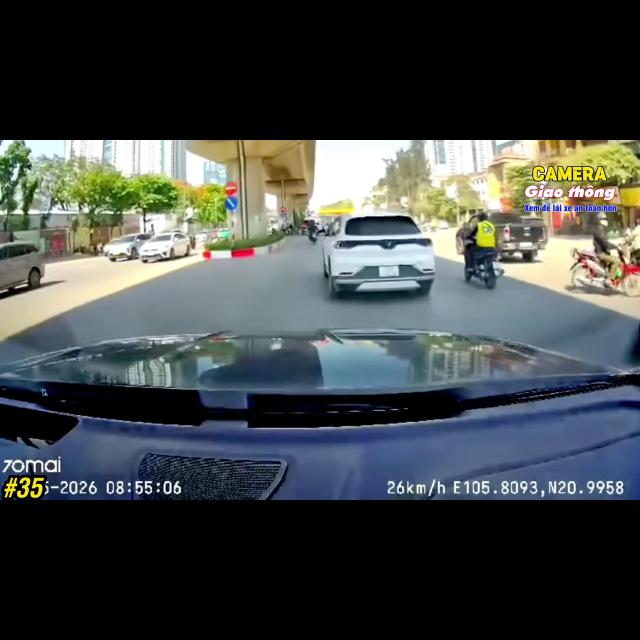car: (0, 329, 639, 499), (323, 212, 434, 297), (452, 208, 544, 260), (0, 242, 44, 290), (140, 232, 191, 262), (106, 233, 152, 261), (195, 231, 211, 242)
motorcycle: (570, 242, 639, 296), (465, 252, 504, 289), (309, 232, 317, 244)
